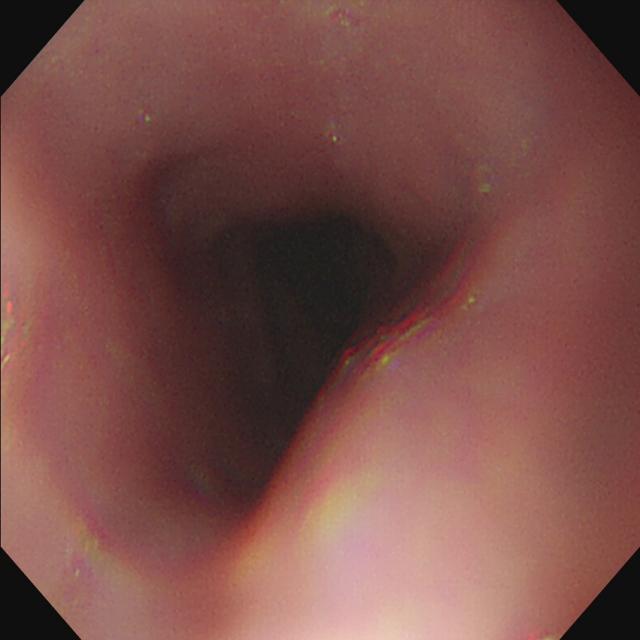E: (243, 222, 358, 393)
